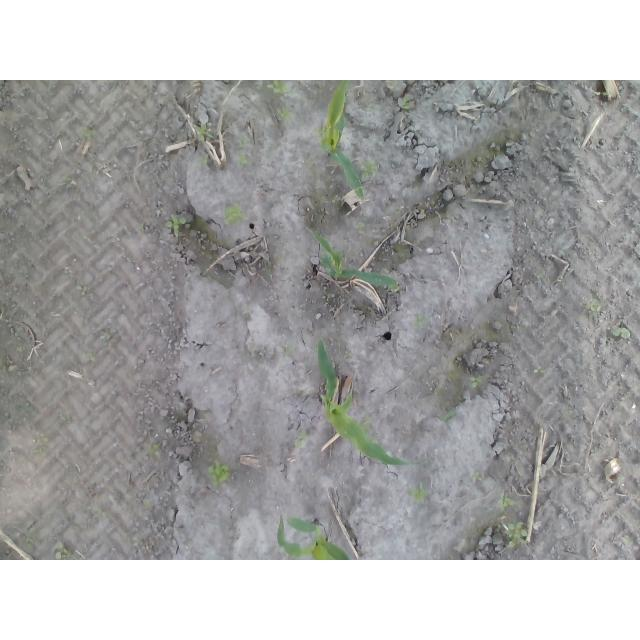Maize: (315, 336, 422, 467), (305, 224, 399, 292), (320, 80, 367, 202), (276, 510, 353, 560)
Weeds: (204, 461, 232, 488), (165, 213, 188, 239), (506, 521, 527, 548), (221, 205, 243, 226), (237, 134, 251, 167), (407, 485, 430, 504), (357, 159, 379, 176), (610, 324, 630, 340), (147, 441, 165, 457), (270, 80, 290, 94), (274, 107, 291, 123), (398, 95, 416, 110), (53, 541, 67, 560), (411, 312, 425, 329), (80, 126, 99, 138), (197, 155, 212, 170), (499, 495, 515, 509), (438, 409, 455, 422), (196, 123, 208, 141), (24, 526, 33, 550), (469, 375, 483, 388), (32, 447, 48, 458), (293, 432, 304, 448), (386, 80, 403, 90), (93, 506, 107, 518), (75, 285, 89, 296), (590, 300, 602, 312), (143, 499, 154, 511), (470, 471, 482, 482), (280, 343, 293, 353), (447, 371, 458, 382), (356, 222, 365, 235), (532, 366, 545, 374), (315, 126, 325, 136), (520, 131, 529, 142), (344, 350, 353, 359)
